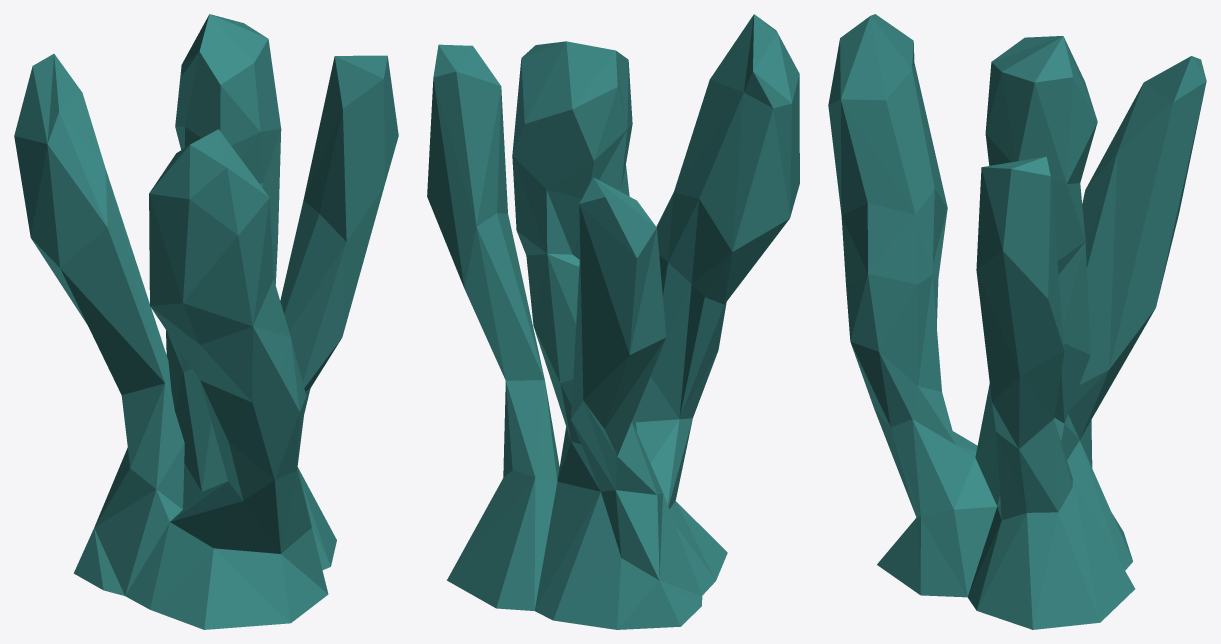
File: SM_Coral_Sponge_Young_C.fbx
3 views of the same model, side by side, from view 1: azimuth 30°, elevation 25°; view 2: azimuth 150°, elevation 25°; view 3: azimuth 270°, elevation 25° (orthographic). The views are drawn at different scales.
Visible parts, largest first — view 1: coral-sponge-young-c; view 2: coral-sponge-young-c; view 3: coral-sponge-young-c.
Boxes of the visible parts, x1,y1,x2,y2 form: coral-sponge-young-c: (14,14,398,629); coral-sponge-young-c: (427,14,799,629); coral-sponge-young-c: (828,14,1206,629).
Bounding box in the file's own units: 0.4531 × 0.7822 × 0.497.
